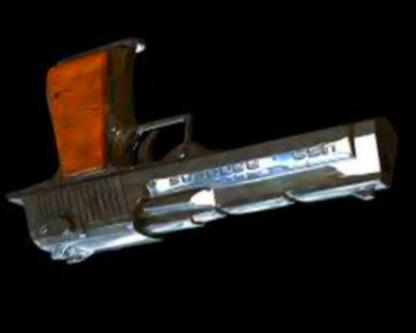pistol: (2, 15, 408, 311)
